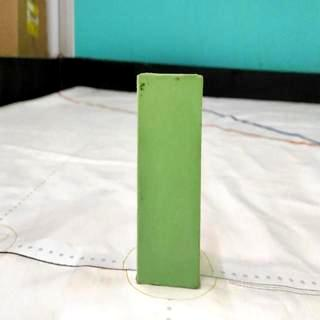greenbox: (138, 74, 202, 291)
